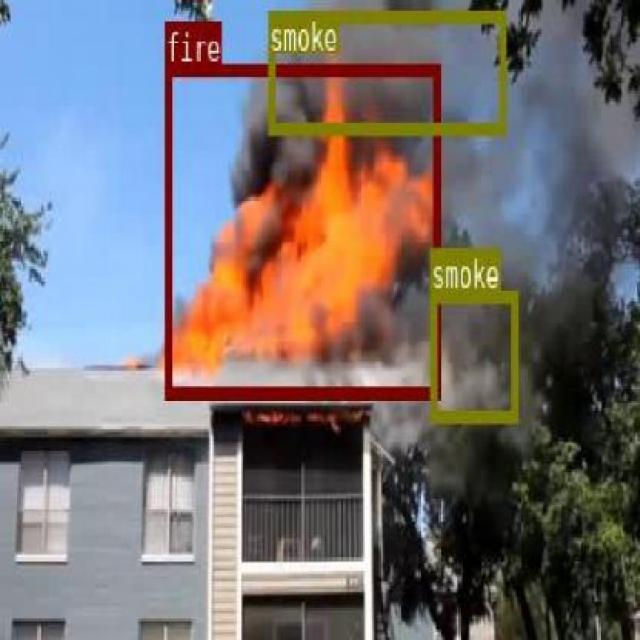Fire: (157, 60, 453, 375)
Smoke: (352, 25, 625, 503), (233, 0, 357, 360)
